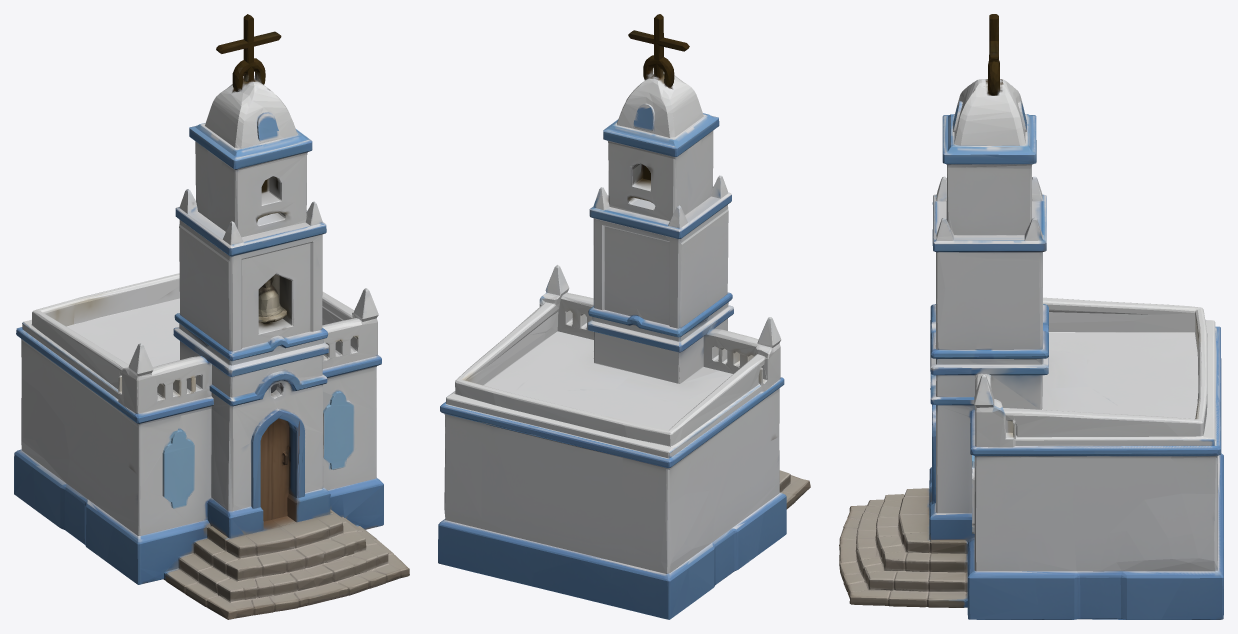
Rendered from Iglesia_LowPoly.fbx.
3 renders of one model, left to right at view 1: azimuth 30°, elevation 25°; view 2: azimuth 150°, elevation 25°; view 3: azimuth 270°, elevation 25°, orthographic. The views are drawn at different scales.
Parts seen in each view (by area): view 1: Iglesia_LowPoly; view 2: Iglesia_LowPoly; view 3: Iglesia_LowPoly.
Boxes of the visible parts, x1,y1,x2,y2 form: Iglesia_LowPoly: (14,14,409,619); Iglesia_LowPoly: (438,14,810,619); Iglesia_LowPoly: (839,14,1223,619).
Bounding box in the file's own units: 45.65 × 94.13 × 60.16.
Materials: 1 (1 with a texture image).
